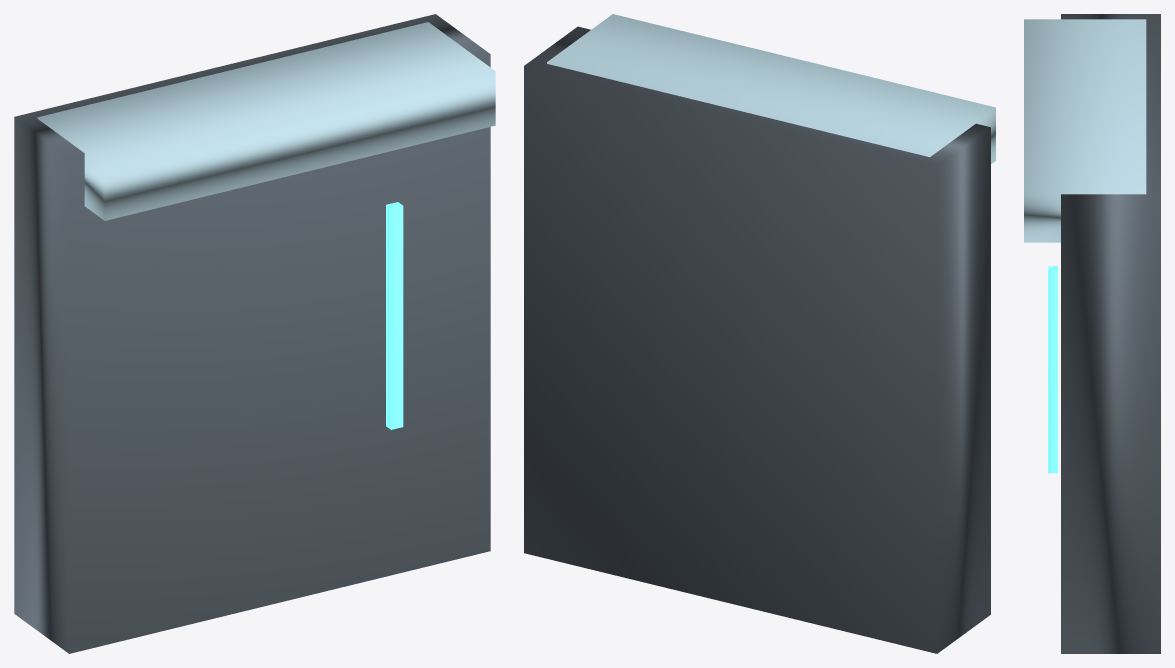
The model's file is ice-mine-frost-wall-lod2.glb.
The picture shows the model from 3 angles, left to right: view 1: azimuth 30°, elevation 25°; view 2: azimuth 150°, elevation 25°; view 3: azimuth 270°, elevation 25°; orthographic projection. The views are drawn at different scales.
Parts seen in each view (by area): view 1: ice-mine-frost-wall-rock, ice-mine-frost-wall-cap, ice-mine-frost-wall-seam; view 2: ice-mine-frost-wall-rock, ice-mine-frost-wall-cap; view 3: ice-mine-frost-wall-rock, ice-mine-frost-wall-cap, ice-mine-frost-wall-seam.
Part boxes in pixels (<box>): ice-mine-frost-wall-rock: <box>14,14,490,653</box>; ice-mine-frost-wall-cap: <box>37,22,495,220</box>; ice-mine-frost-wall-seam: <box>386,202,403,429</box>; ice-mine-frost-wall-rock: <box>524,26,990,653</box>; ice-mine-frost-wall-cap: <box>547,14,995,163</box>; ice-mine-frost-wall-rock: <box>1061,14,1160,653</box>; ice-mine-frost-wall-cap: <box>1024,19,1146,242</box>; ice-mine-frost-wall-seam: <box>1048,266,1057,473</box>.
Size of the model in its own units: 2.75 by 3.11 by 0.85.
